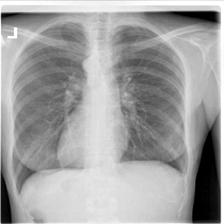tuberculosis: (3, 15, 193, 201)
